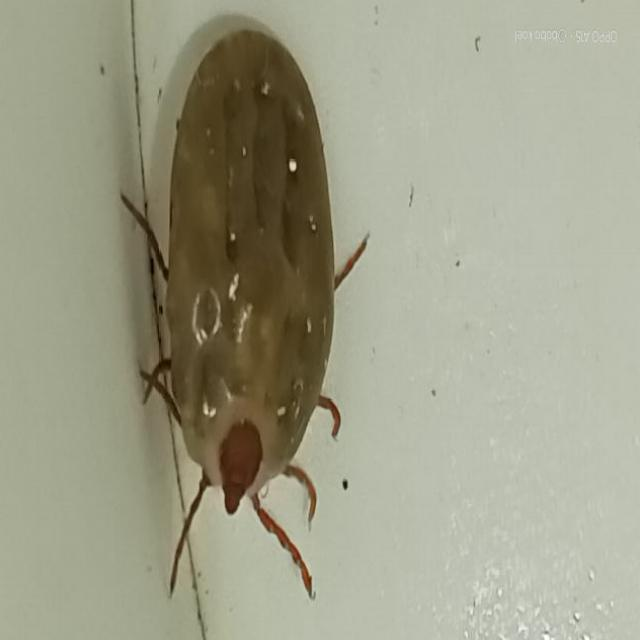Rhipicephalus Sanguineus-F-Fed: (120, 26, 371, 598)
